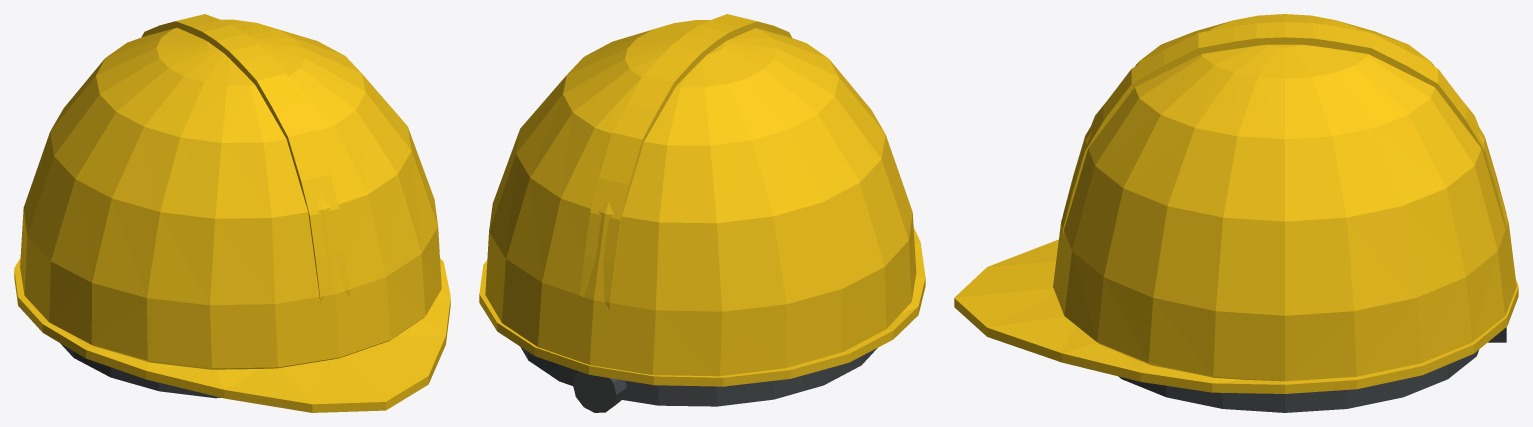
File: Helmet.fbx
The picture shows the model from 3 angles, left to right: view 1: azimuth 30°, elevation 25°; view 2: azimuth 150°, elevation 25°; view 3: azimuth 270°, elevation 25°; orthographic projection. The views are drawn at different scales.
Visible parts, largest first — view 1: Helmet_Shell, Helmet_Brim, Helmet_CrownRidge, Helmet_Headband; view 2: Helmet_Shell, Helmet_CrownRidge, Helmet_Brim, Helmet_Headband, Helmet_RearAdjuster; view 3: Helmet_Shell, Helmet_Brim, Helmet_CrownRidge, Helmet_Headband.
Boxes of the visible parts, x1,y1,x2,y2 form: Helmet_Shell: (20, 19, 441, 369); Helmet_Brim: (14, 258, 450, 412); Helmet_CrownRidge: (141, 14, 349, 303); Helmet_Headband: (60, 343, 221, 398); Helmet_Shell: (485, 20, 916, 376); Helmet_CrownRidge: (579, 14, 791, 309); Helmet_Brim: (479, 227, 925, 386); Helmet_Headband: (520, 347, 877, 406); Helmet_RearAdjuster: (573, 371, 626, 412); Helmet_Shell: (1053, 14, 1516, 381); Helmet_Brim: (954, 239, 1518, 393); Helmet_CrownRidge: (1063, 22, 1506, 235); Helmet_Headband: (1118, 350, 1478, 412).
Bounding box in the file's own units: 0.23 × 0.17 × 0.28.
